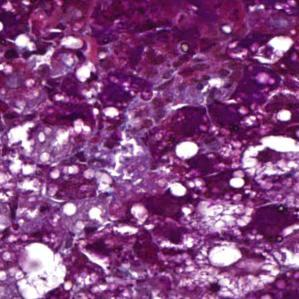ballooning: (238, 130, 299, 199), (14, 242, 67, 299)
